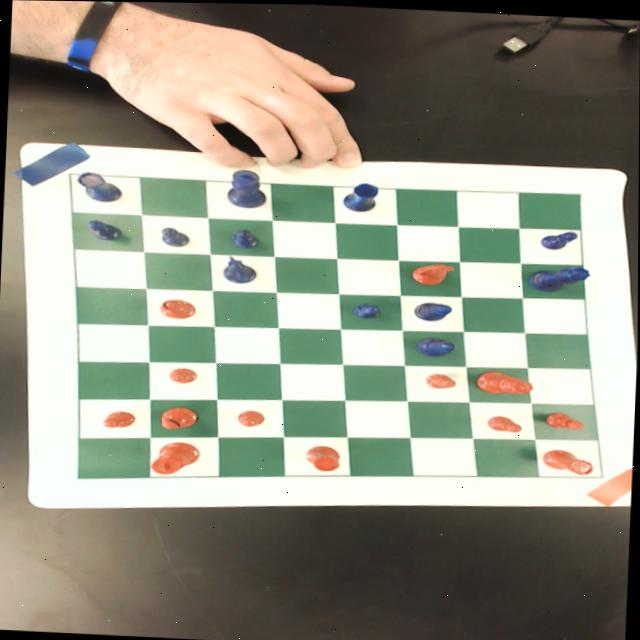B: (414, 335, 457, 356), (412, 300, 453, 320)
K: (225, 168, 267, 208)
N: (216, 254, 259, 284)
P: (539, 228, 579, 249), (86, 218, 121, 241), (159, 225, 192, 246), (228, 227, 259, 249), (352, 301, 381, 317)
Q: (526, 263, 591, 292)
R: (74, 170, 124, 202), (341, 180, 380, 212)
b: (159, 404, 198, 430), (159, 297, 196, 319)
k: (150, 440, 200, 475)
n: (409, 261, 456, 285)
p: (542, 409, 585, 428), (101, 409, 138, 429), (486, 414, 523, 431), (235, 408, 266, 427), (167, 366, 198, 384), (425, 371, 456, 388)
q: (475, 370, 534, 394)
r: (541, 447, 597, 474), (305, 444, 340, 471)
